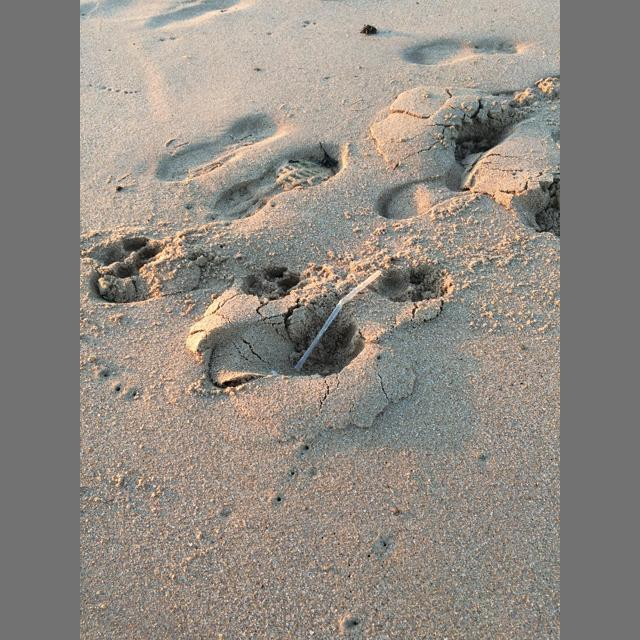litter: (295, 271, 381, 371)
